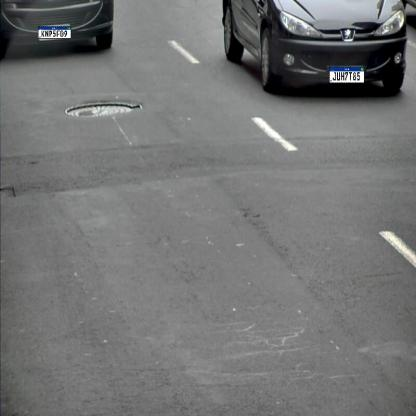PlacaM: (329, 67, 365, 83), (38, 26, 71, 39)
